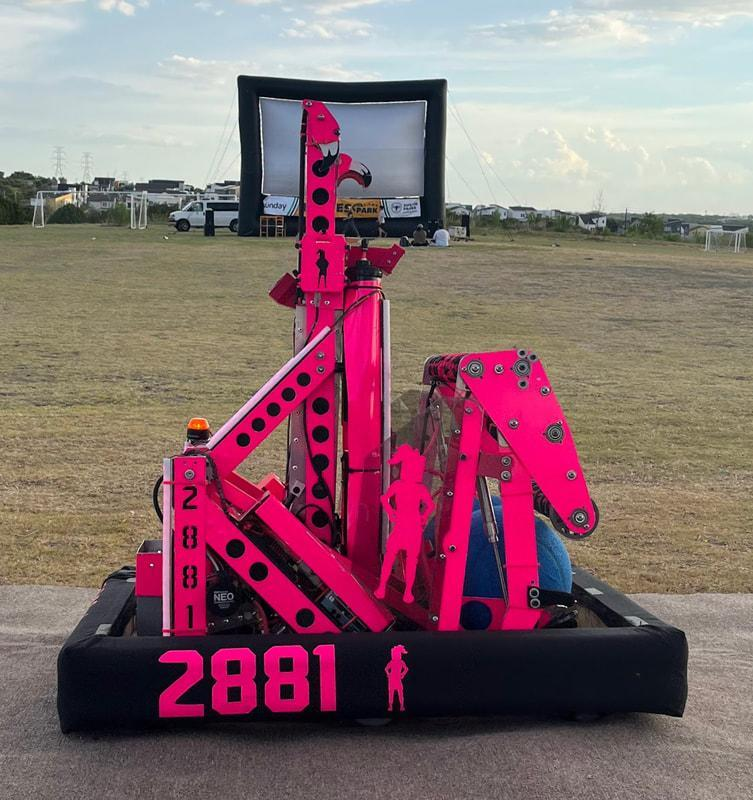robot: (53, 97, 699, 742)
